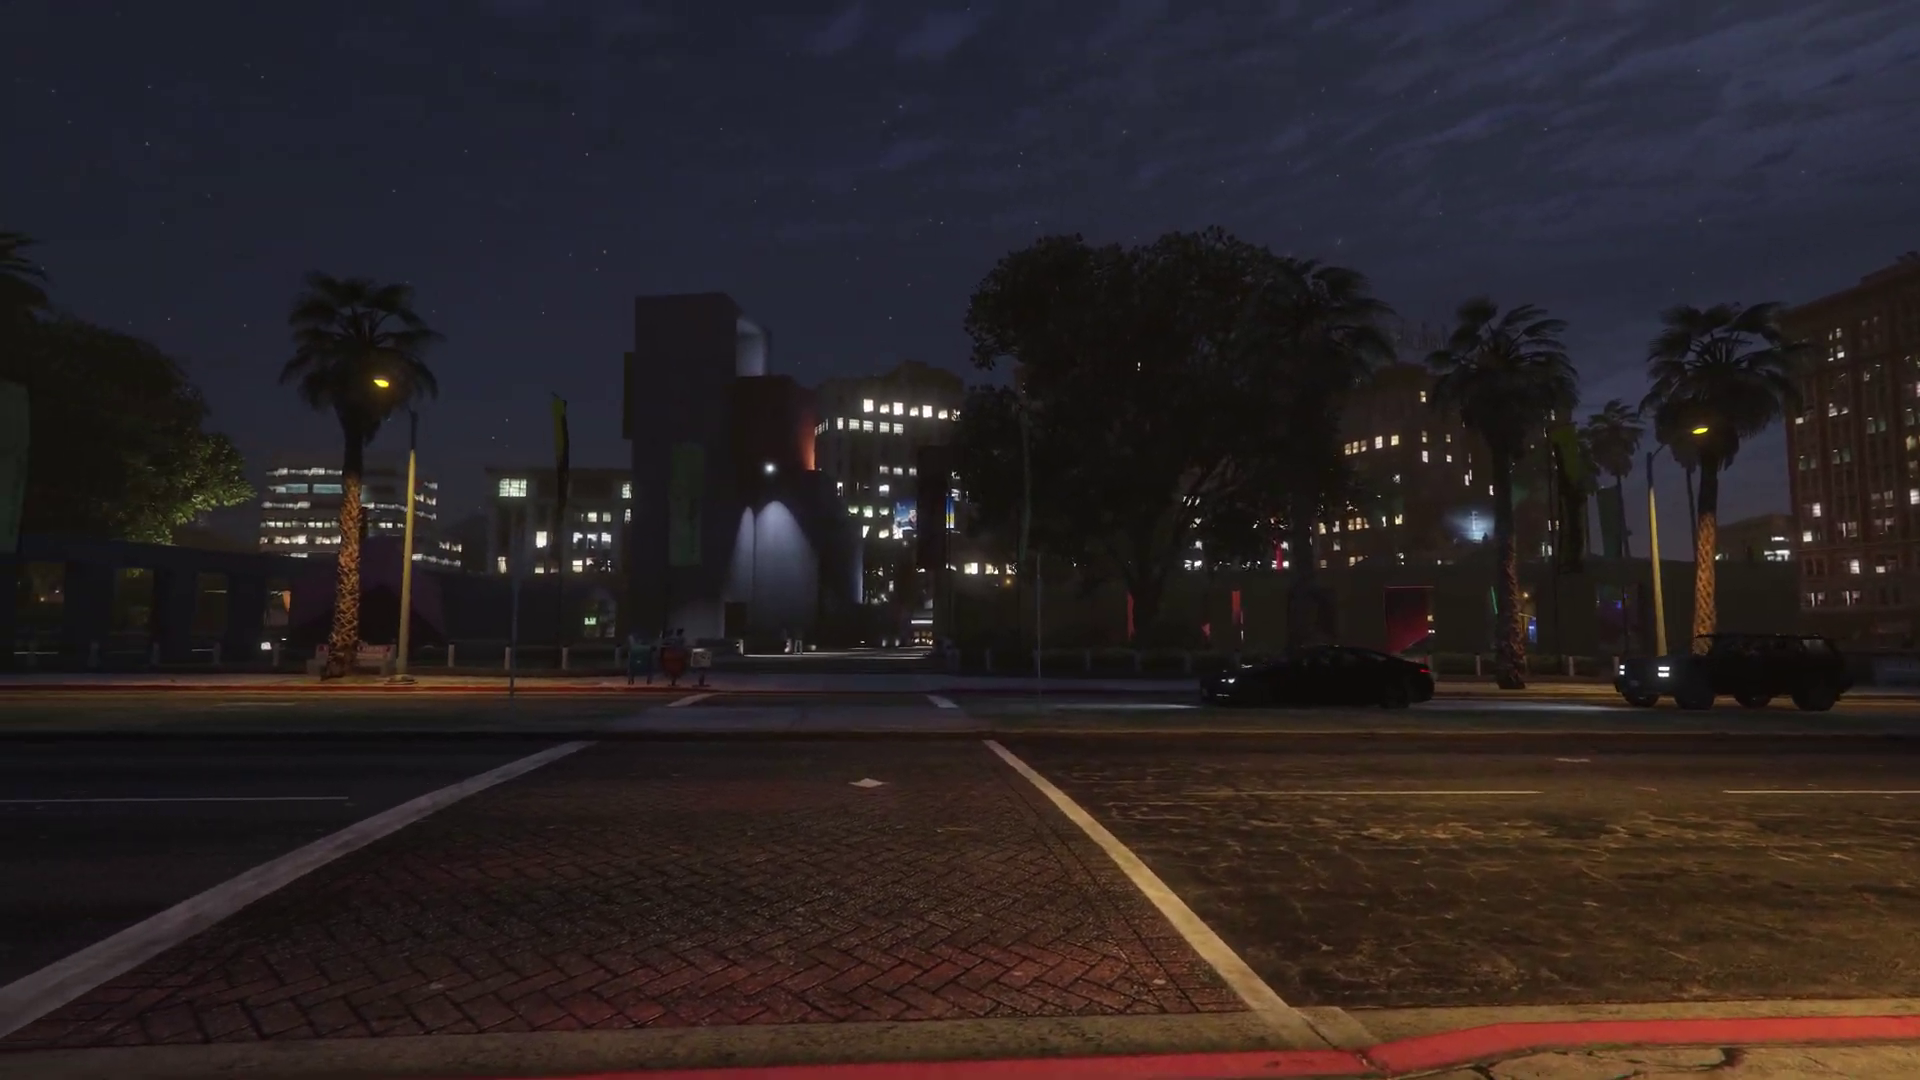car: (1614, 633, 1851, 713), (1197, 645, 1437, 711)
